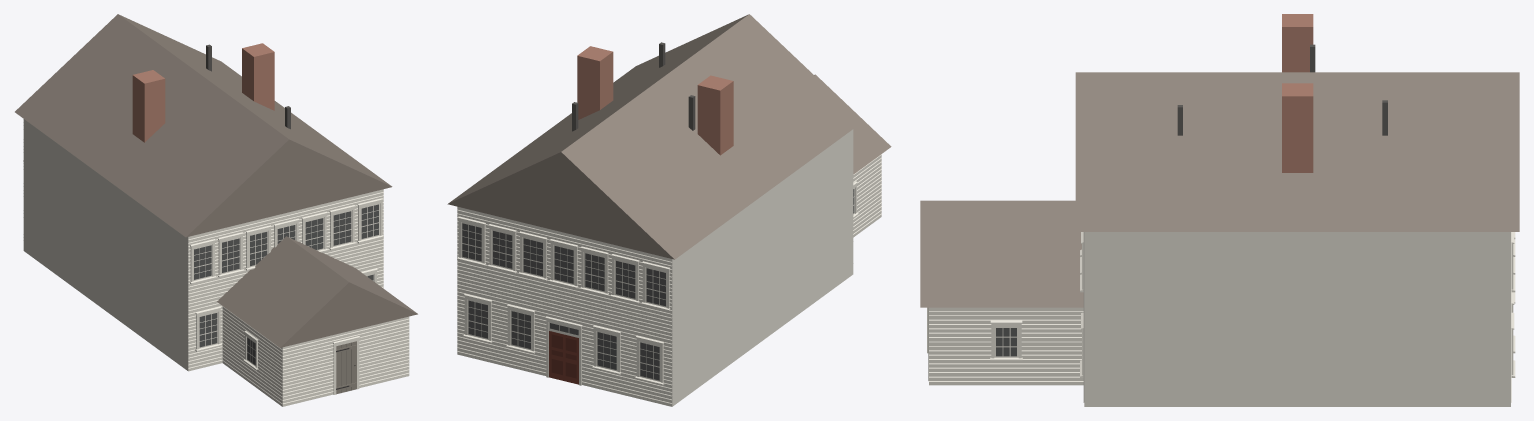
The model's file is recon_1835_blk_washington_clark_h3_05__inferred_1835.glb.
3 renders of one model, left to right at view 1: azimuth 30°, elevation 25°; view 2: azimuth 150°, elevation 25°; view 3: azimuth 270°, elevation 25°, orthographic. The views are drawn at different scales.
Parts seen in each view (by area): view 1: recon_1835_blk_washington_clark_h3_05__inferred_1835; view 2: recon_1835_blk_washington_clark_h3_05__inferred_1835; view 3: recon_1835_blk_washington_clark_h3_05__inferred_1835.
Part boxes in pixels (left/top/right/bottom): recon_1835_blk_washington_clark_h3_05__inferred_1835: left=15, top=14, right=417, bottom=406; recon_1835_blk_washington_clark_h3_05__inferred_1835: left=447, top=14, right=891, bottom=406; recon_1835_blk_washington_clark_h3_05__inferred_1835: left=920, top=14, right=1519, bottom=406.
Size of the model in its own units: 8.97 by 9.27 by 17.36.
